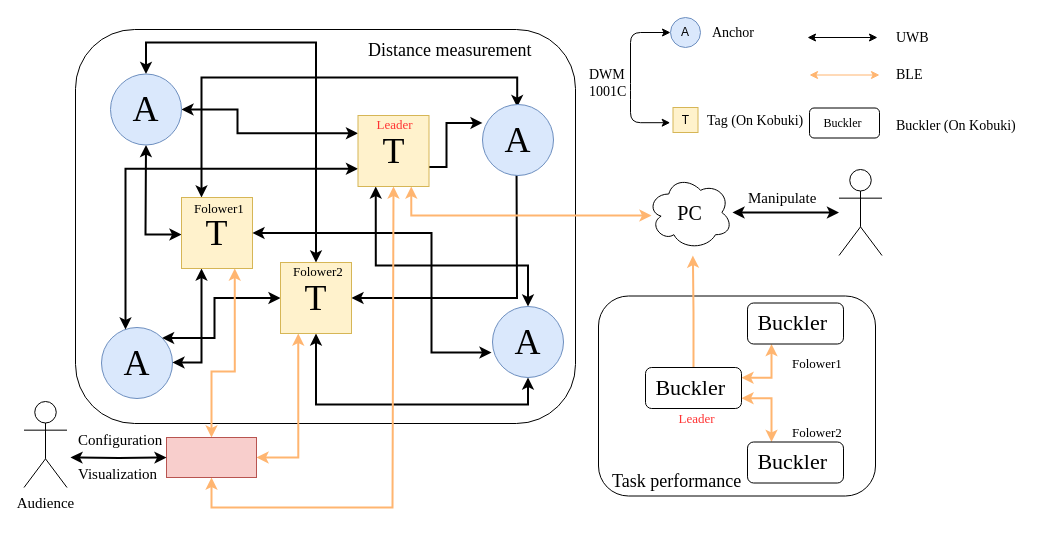
Image size: 1042x535. Some labels were removed from this diagram. The shapes that lost their labels are listed below. From the top down, each one's box as (x1, y1, x2, y2) in pixels, then its label:
(838, 168, 882, 256): Actor
(166, 436, 256, 478): PHONE
